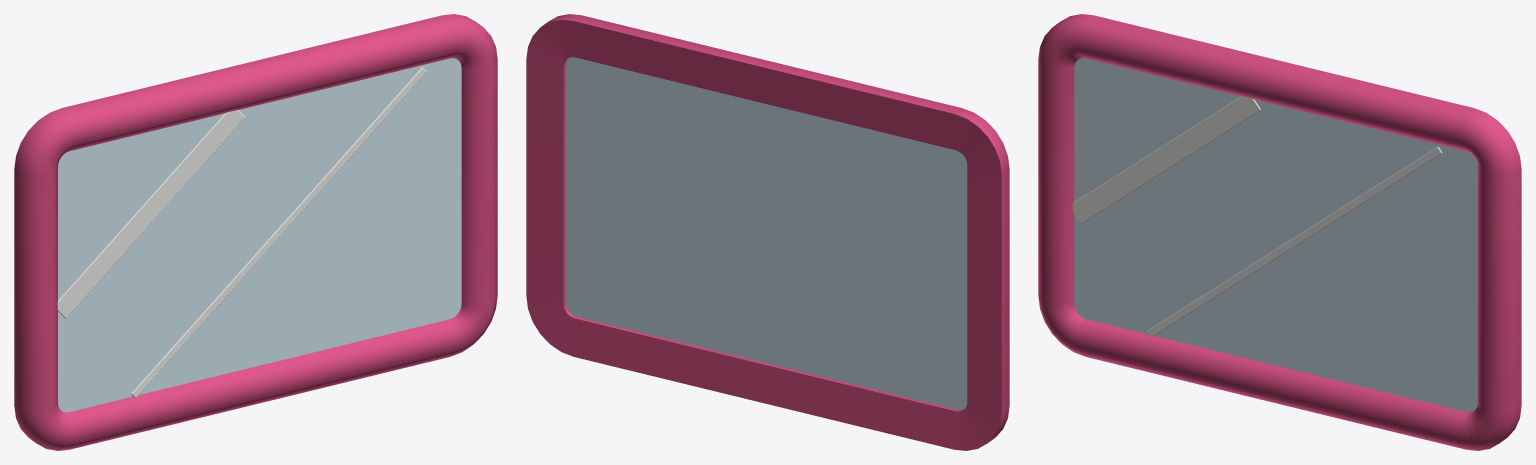
Rendered from espelho_retangular_rosa.glb.
3 renders of one model, left to right at view 1: azimuth 30°, elevation 25°; view 2: azimuth 150°, elevation 25°; view 3: azimuth 330°, elevation 25°, orthographic.
Parts seen in each view (by area): view 1: espelho_retangular_rosa; view 2: espelho_retangular_rosa; view 3: espelho_retangular_rosa.
Boxes of the visible parts, x1,y1,x2,y2 form: espelho_retangular_rosa: [14, 14, 497, 450]; espelho_retangular_rosa: [526, 14, 1009, 450]; espelho_retangular_rosa: [1038, 14, 1521, 450].
Size of the model in its own units: 0.8 by 0.54 by 0.04.
Materials: 2 (1 with a texture image).
